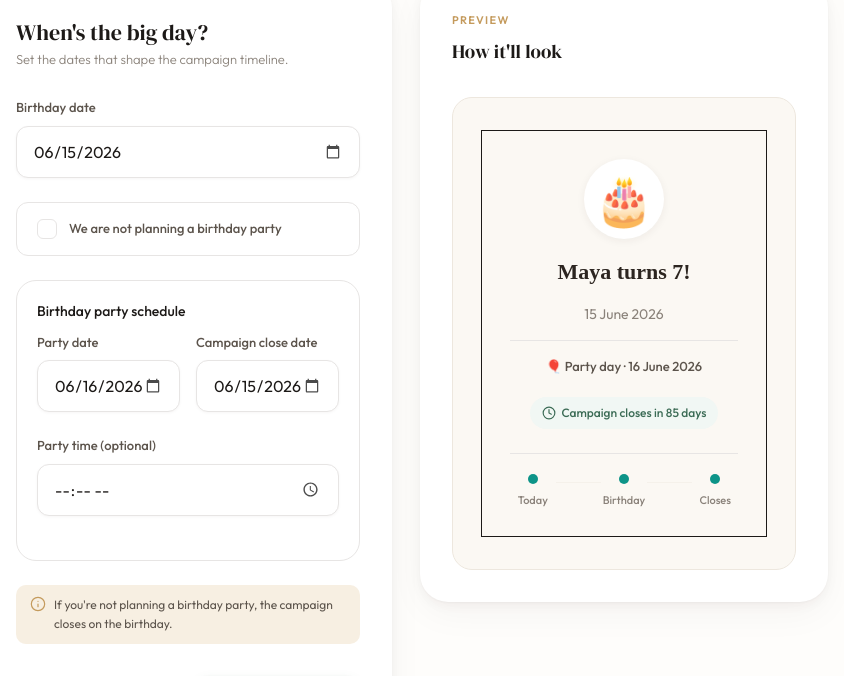
Test: DatesForm › keeps campaign close on or before party date without enforcing birthday as the minimum
Type "2026-06-20" into the date field with id "campaignEndDate" at (268, 386), box [196,360,339,412]
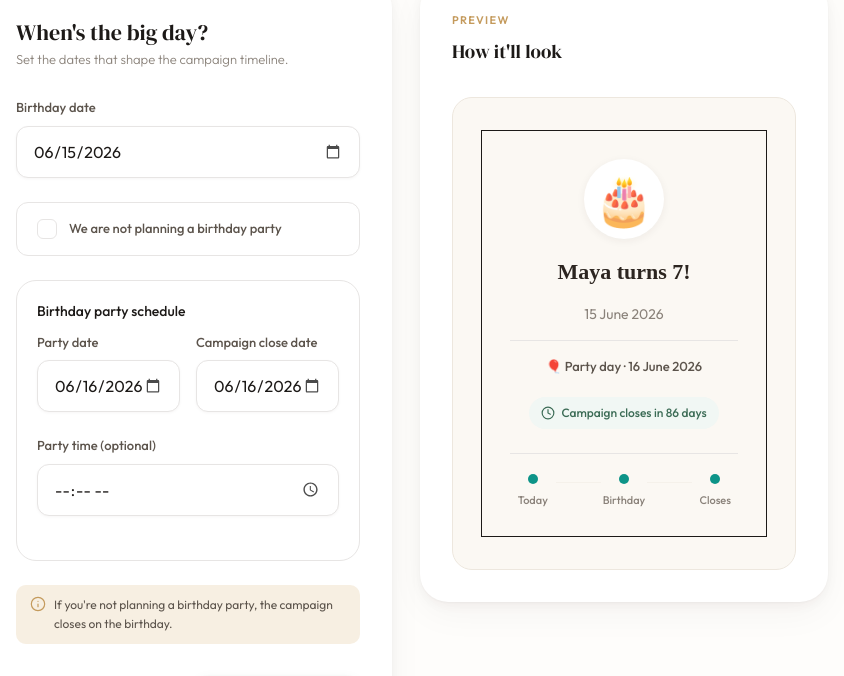
Result: the date field with id "campaignEndDate" holds "2026-06-16" at [196,360,339,412]
